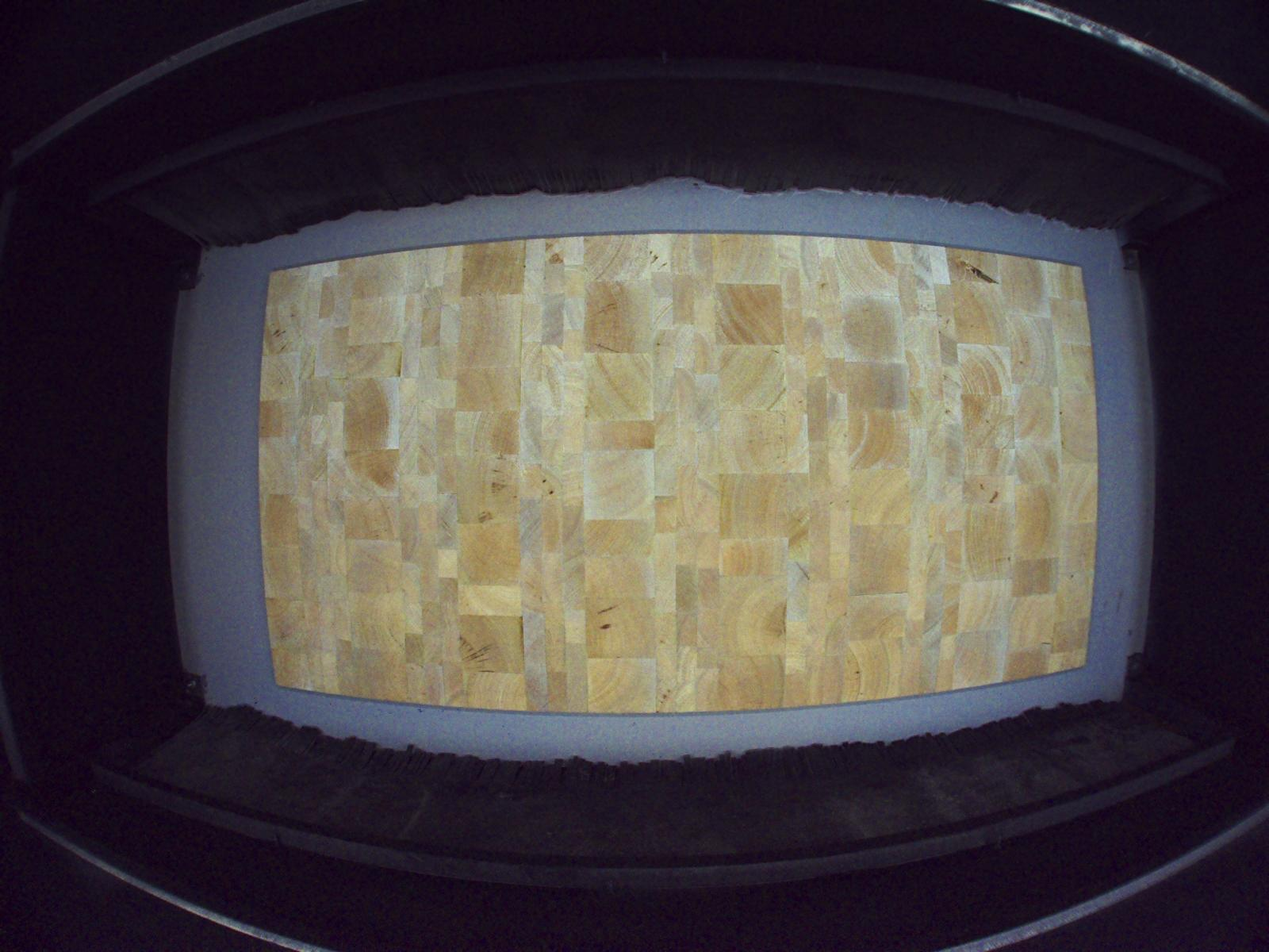nudillo: (950, 254, 1002, 288)
